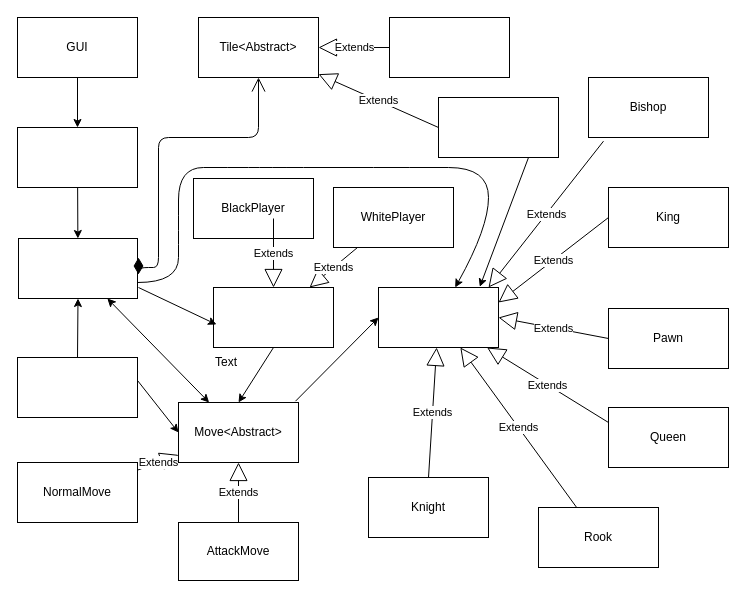
The diagram is 746 pixels wide and 598 high, and some of its shapes have lost their labels. Each missing label, with the centre of its shape:
"Board" goes at (x=78, y=268).
"BoardBuilder" goes at (x=77, y=157).
"EmptyTile" goes at (x=449, y=47).
"MoveTransision" goes at (x=77, y=387).
"OccupiedTile" goes at (x=498, y=127).
"Pieces<Abstract>" goes at (x=438, y=317).
"Player<Abstract>" goes at (x=273, y=317).
